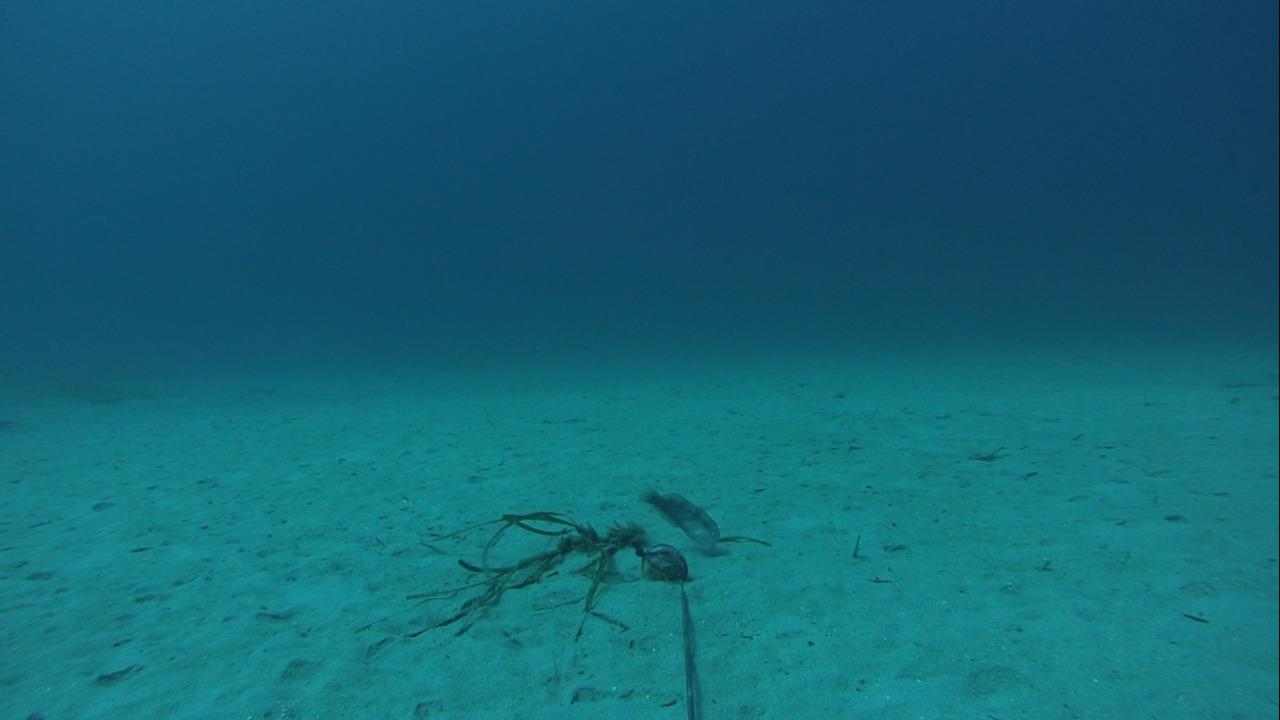raor: (636, 479, 723, 558)
